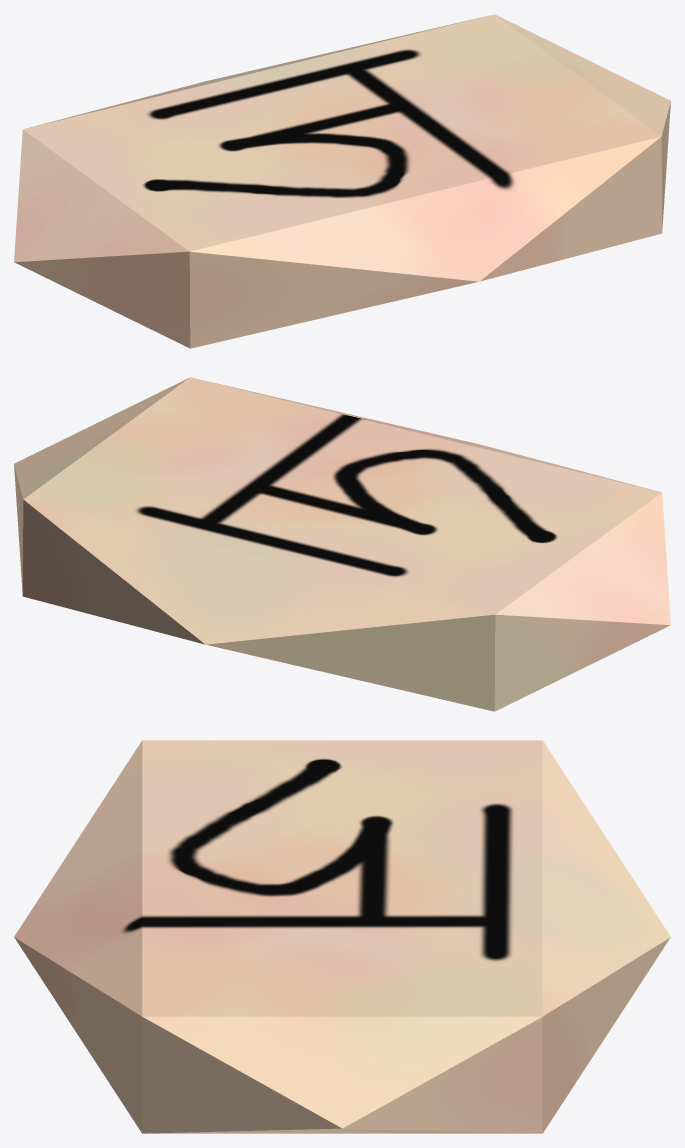
Rendered from Rune.fbx.
The picture shows the model from 3 angles, top to bottom: view 1: azimuth 30°, elevation 25°; view 2: azimuth 150°, elevation 25°; view 3: azimuth 270°, elevation 25°; orthographic projection. The views are drawn at different scales.
Parts seen in each view (by area): view 1: Cube; view 2: Cube; view 3: Cube.
Boxes of the visible parts, x1,y1,x2,y2 form: Cube: [14, 14, 670, 348]; Cube: [14, 377, 670, 711]; Cube: [14, 740, 670, 1133].
Size of the model in its own units: 390 by 55.15 by 282.
